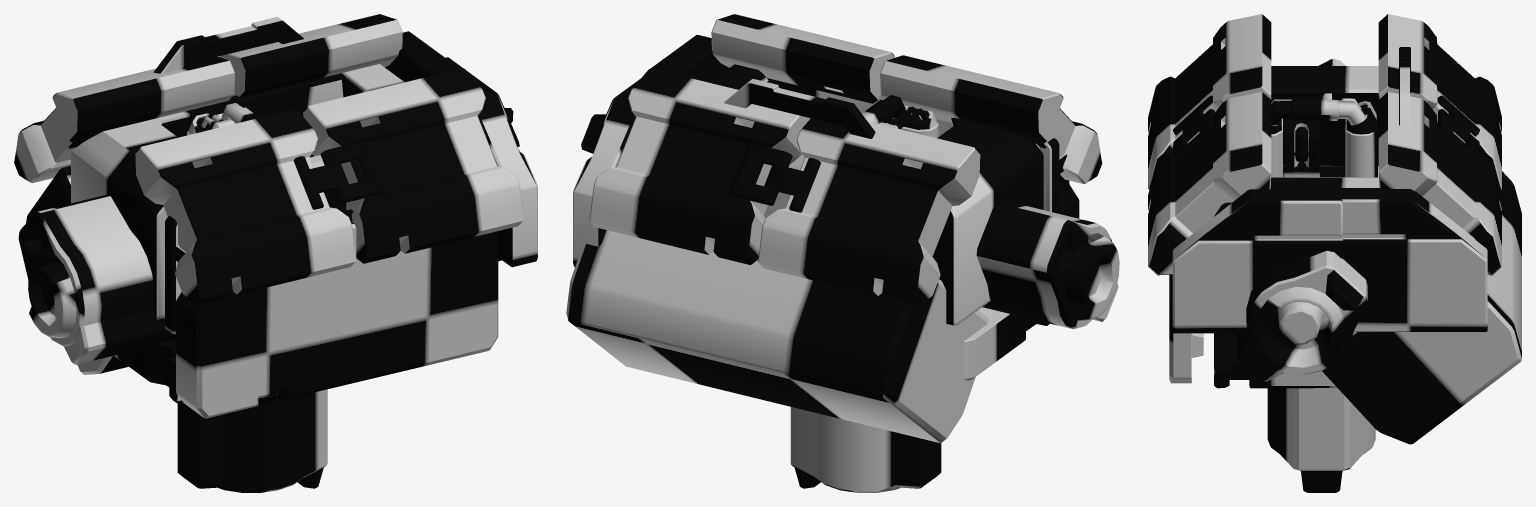
File: module01.obj
3 views of the same model, side by side, from view 1: azimuth 30°, elevation 25°; view 2: azimuth 150°, elevation 25°; view 3: azimuth 270°, elevation 25° (orthographic). The views are drawn at different scales.
Parts seen in each view (by area): view 1: modul01, vru; view 2: modul01, vru; view 3: modul01, vru.
Boxes of the visible parts, bbox=[...] form: modul01: bbox=[14, 14, 537, 492]; vru: bbox=[219, 56, 383, 403]; modul01: bbox=[566, 14, 1119, 492]; vru: bbox=[729, 143, 820, 212]; modul01: bbox=[1148, 14, 1521, 492]; vru: bbox=[1173, 95, 1479, 164].
Bounding box in the file's own units: 101 × 84.78 × 70.61.
Materials: 4 (4 with a texture image).
